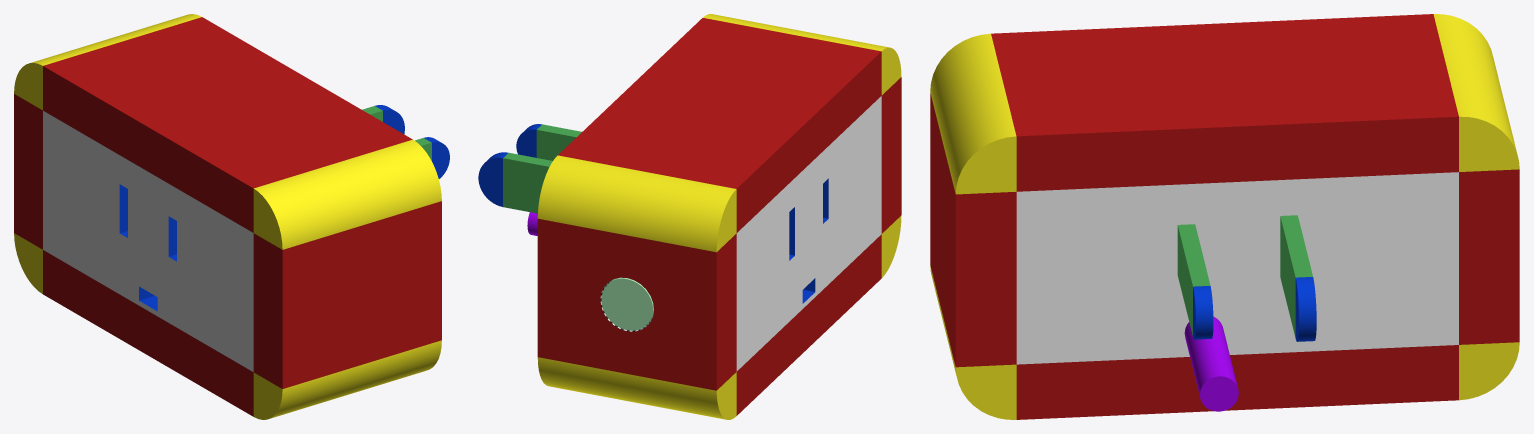
The model's file is Case_Study_SmartSwitch_8.glb.
3 renders of one model, left to right at view 1: azimuth 30°, elevation 25°; view 2: azimuth 150°, elevation 25°; view 3: azimuth 270°, elevation 25°, orthographic. The views are drawn at different scales.
Visible parts, largest first — view 1: Part 19, Part 15, Part 20, Part 16; view 2: Part 19, Part 20, Part 15, Part 17, Part 16, Part 21; view 3: Part 19, Part 15, Part 20, Part 17, Part 18, Part 16.
Boxes of the visible parts, <box> form: Part 19: <box>14,17,441,416</box>; Part 15: <box>43,111,253,371</box>; Part 20: <box>14,14,441,419</box>; Part 16: <box>119,105,449,311</box>; Part 19: <box>537,18,901,415</box>; Part 20: <box>537,14,901,419</box>; Part 15: <box>736,96,881,371</box>; Part 17: <box>503,124,581,213</box>; Part 16: <box>478,124,828,303</box>; Part 21: <box>601,277,653,330</box>; Part 19: <box>930,14,1519,419</box>; Part 15: <box>1016,172,1458,364</box>; Part 20: <box>930,14,1519,419</box>; Part 17: <box>1177,215,1312,337</box>; Part 18: <box>1184,316,1238,411</box>; Part 16: <box>1193,277,1316,341</box>.
Size of the model in its own units: 0.0588 by 0.0406 by 0.0766.
8 materials, 1 textured.
